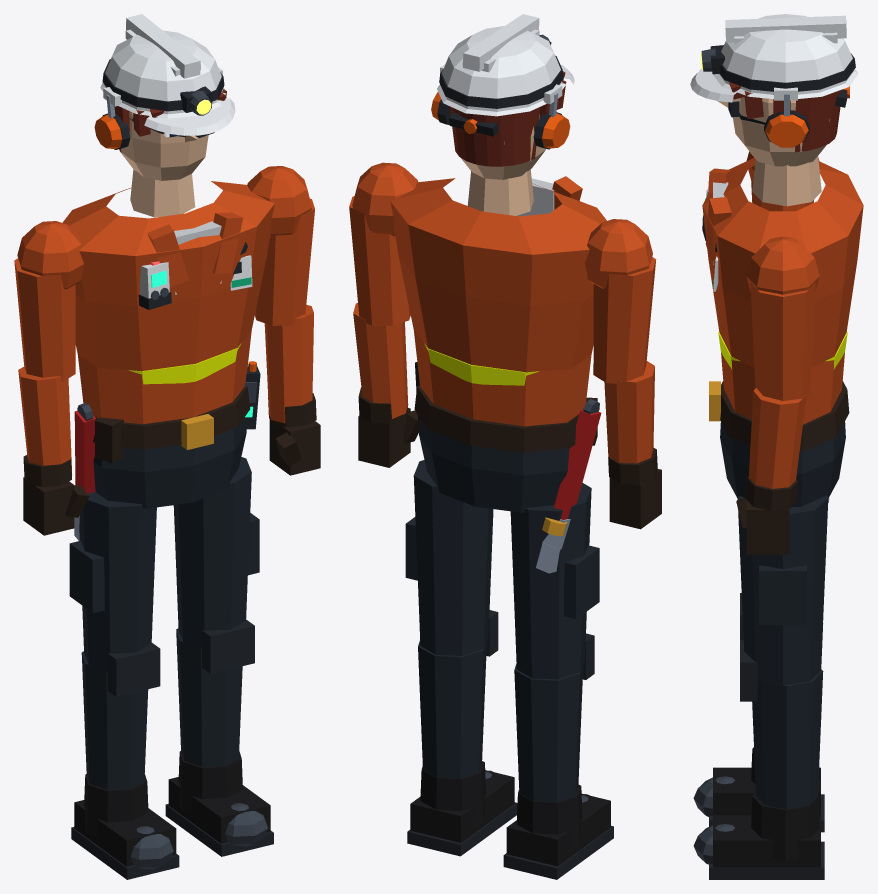
Rendered from operator_vern_rig.glb.
3 views of the same model, side by side, from view 1: azimuth 30°, elevation 25°; view 2: azimuth 150°, elevation 25°; view 3: azimuth 270°, elevation 25° (orthographic). The views are drawn at different scales.
Parts seen in each view (by area): view 1: Torso_Jacket_Male, Leg_Upper_R, Leg_Upper_L, Pelvis_Hips_Male, Leg_Lower_L, Leg_Lower_R, Arm_Upper_L, HardHat_Contoured_Shell, Arm_Upper_R, Arm_Lower_R, Arm_Lower_L, Head_Cranium_Base (+32 smaller); view 2: Torso_Jacket_Male, Leg_Upper_R, Leg_Upper_L, Pelvis_Hips_Male, Leg_Lower_L, Leg_Lower_R, HardHat_Contoured_Shell, Arm_Upper_L, Arm_Upper_R, Utility_Belt_Strap, Arm_Lower_R, Arm_Lower_L (+23 smaller); view 3: Torso_Jacket_Male, Leg_Upper_R, Leg_Lower_R, HardHat_Contoured_Shell, Arm_Upper_R, Arm_Lower_R, Pelvis_Hips_Male, Boot_Vamp_R, Shoulder_Cap_R, Cargo_Pocket_R, Boot_Ankle_Shaft_R, Neck (+19 smaller).
Part boxes in pixels (box(x1,y1,x2,y2)): Torso_Jacket_Male: box(62, 181, 274, 424); Leg_Upper_R: box(173, 457, 251, 647); Leg_Upper_L: box(79, 492, 156, 671); Pelvis_Hips_Male: box(93, 417, 246, 508); Leg_Lower_L: box(81, 651, 148, 789); Leg_Lower_R: box(176, 628, 242, 766); Arm_Upper_L: box(14, 258, 75, 381); HardHat_Contoured_Shell: box(100, 30, 225, 118); Arm_Upper_R: box(255, 198, 314, 325); Arm_Lower_R: box(264, 304, 313, 423); Arm_Lower_L: box(18, 367, 71, 471); Head_Cranium_Base: box(119, 111, 208, 180); Torso_Jacket_Male: box(390, 178, 606, 426); Leg_Upper_R: box(413, 460, 493, 655); Leg_Upper_L: box(510, 483, 591, 679); Pelvis_Hips_Male: box(419, 418, 569, 512); Leg_Lower_L: box(514, 663, 583, 802); Leg_Lower_R: box(418, 640, 486, 778); HardHat_Contoured_Shell: box(437, 26, 565, 116); Arm_Upper_L: box(593, 257, 656, 383); Arm_Upper_R: box(349, 196, 410, 325); Utility_Belt_Strap: box(414, 385, 578, 452); Arm_Lower_R: box(353, 303, 408, 418); Arm_Lower_L: box(604, 361, 654, 463); Torso_Jacket_Male: box(702, 157, 863, 424); Leg_Upper_R: box(737, 496, 828, 685); Leg_Lower_R: box(752, 669, 823, 809); HardHat_Contoured_Shell: box(713, 14, 858, 98); Arm_Upper_R: box(750, 282, 815, 400); Arm_Lower_R: box(748, 388, 806, 488); Pelvis_Hips_Male: box(720, 422, 845, 506); Boot_Vamp_R: box(713, 815, 820, 867); Shoulder_Cap_R: box(746, 236, 819, 294); Cargo_Pocket_R: box(759, 565, 806, 625); Boot_Ankle_Shaft_R: box(751, 793, 819, 860); Neck: box(752, 156, 821, 206).
Bounding box in the file's own units: 0.6985 × 1.81 × 0.3449.
